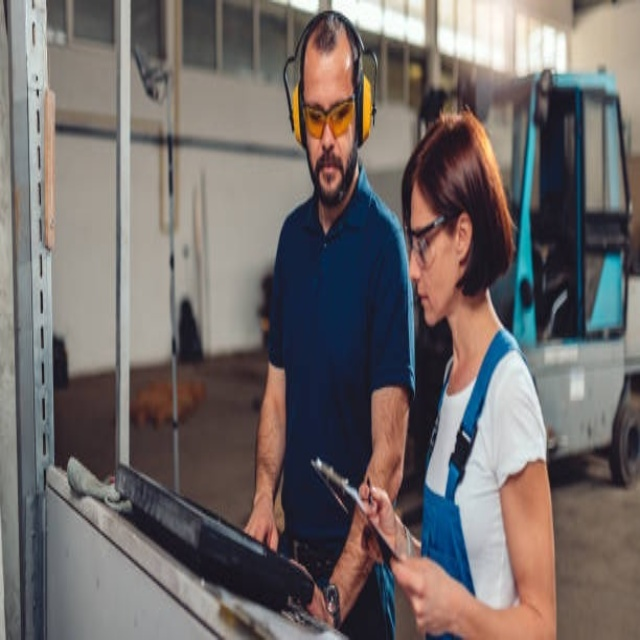Gafas: (300, 90, 359, 140), (405, 212, 454, 265)
Sin_guantes: (391, 546, 455, 640), (239, 485, 284, 553), (358, 477, 402, 542)
Sin_mascara: (415, 279, 440, 324), (314, 150, 340, 189)
